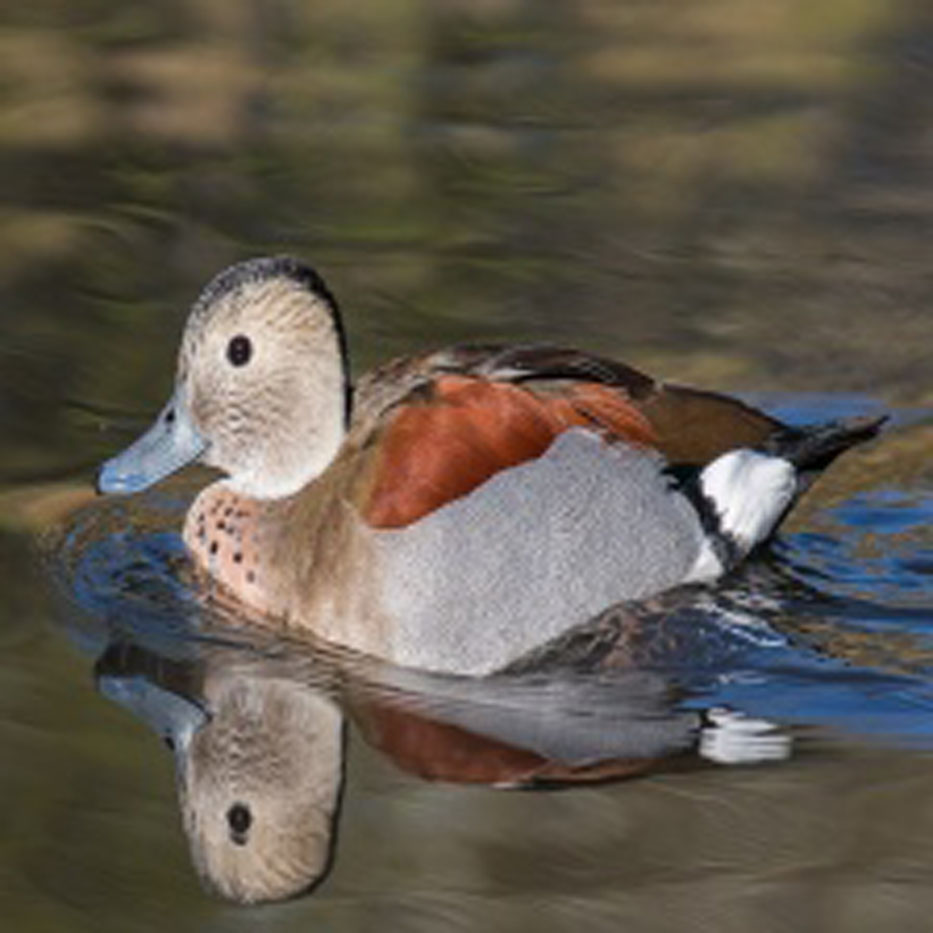Mencari Makan di Lumpur: (70, 379, 210, 529)
